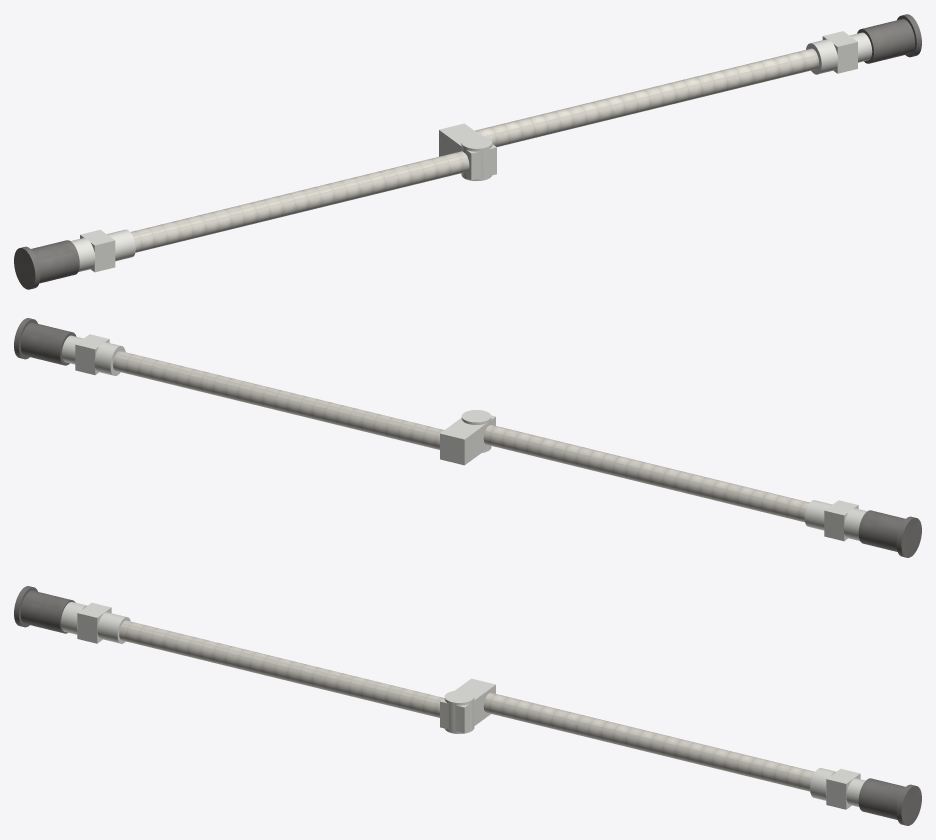
File: station08_robotic_arm.glb
The picture shows the model from 3 angles, top to bottom: view 1: azimuth 30°, elevation 25°; view 2: azimuth 150°, elevation 25°; view 3: azimuth 330°, elevation 25°; orthographic projection. The views are drawn at different scales.
Visible parts, largest first — view 1: boom_a, boom_b, lee_base, elbow_joint, lee_tip, wrist_joints_a, wrist_joints_b; view 2: boom_b, boom_a, lee_base, elbow_joint, wrist_joints_a, lee_tip, wrist_joints_b; view 3: boom_b, boom_a, lee_tip, elbow_joint, wrist_joints_a, lee_base, wrist_joints_b.
Part boxes in pixels (x1,y1,x2,y2): boom_a: (130,151,469,252); boom_b: (475,48,818,146); lee_base: (14,240,79,289); elbow_joint: (439,123,496,180); lee_tip: (857,14,921,63); wrist_joints_a: (71,229,135,272); wrist_joints_b: (806,31,872,74); boom_b: (113,351,444,449); boom_a: (483,424,809,522); lee_base: (858,510,921,557); elbow_joint: (440,410,495,465); wrist_joints_a: (804,500,866,541); lee_tip: (14,318,76,365); wrist_joints_b: (62,334,125,375); boom_b: (483,692,814,791); boom_a: (119,620,444,717); lee_tip: (858,778,921,825); elbow_joint: (440,678,495,733); wrist_joints_a: (61,602,130,643); lee_base: (14,586,75,633); wrist_joints_b: (810,768,865,809).
Size of the model in its own units: 17.6 by 0.7196 by 1.32.
3 materials, 2 textured.
